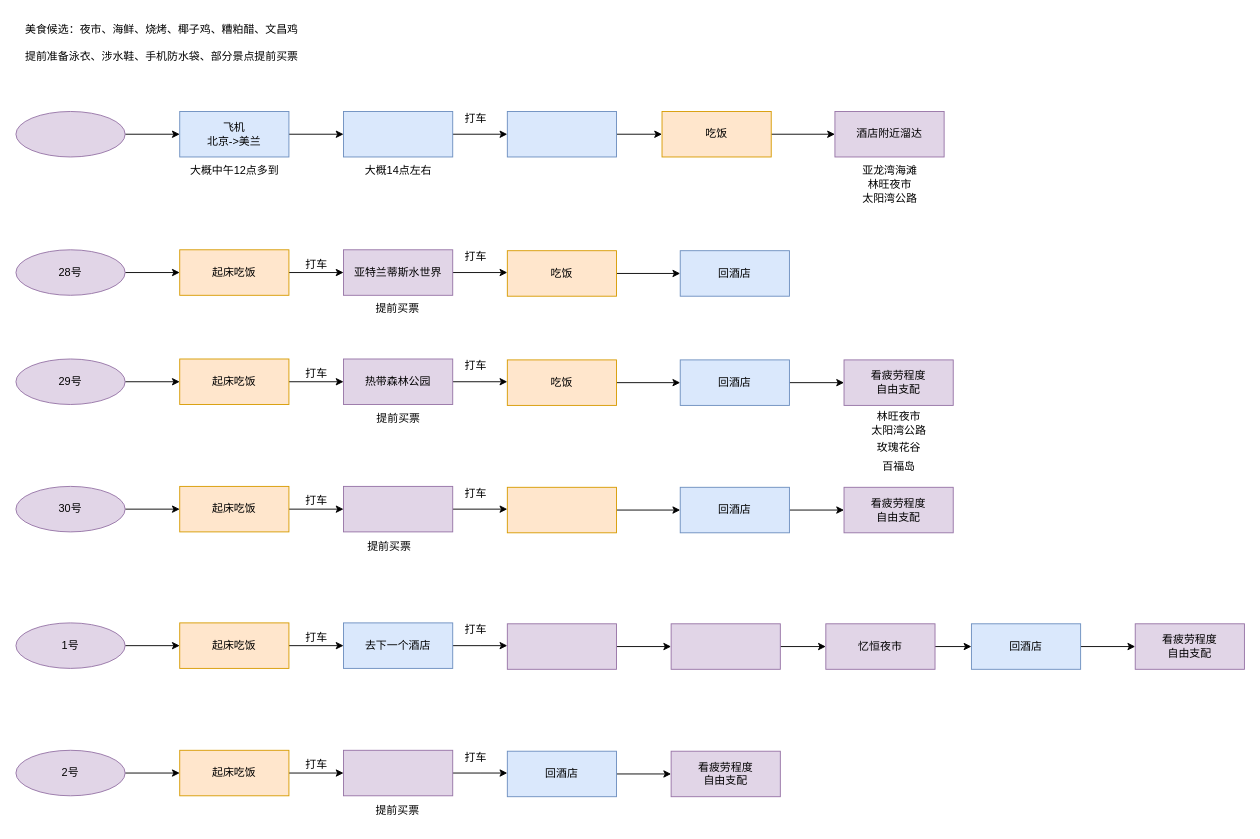
The diagram is 1260 pixels wide and 839 high, and some of its shapes have lost their labels. The shapes that lost their labels are listed below. From the top down, each one's centre as x and y in pixels, then its label:
At point 70,134: "27号".
At point 398,134: "高铁 美兰->亚龙湾".
At point 561,134: "酒店入住".
At point 561,646: "天涯小镇".
At point 725,646: "椰梦长廊".
At point 398,772: "西岛".
